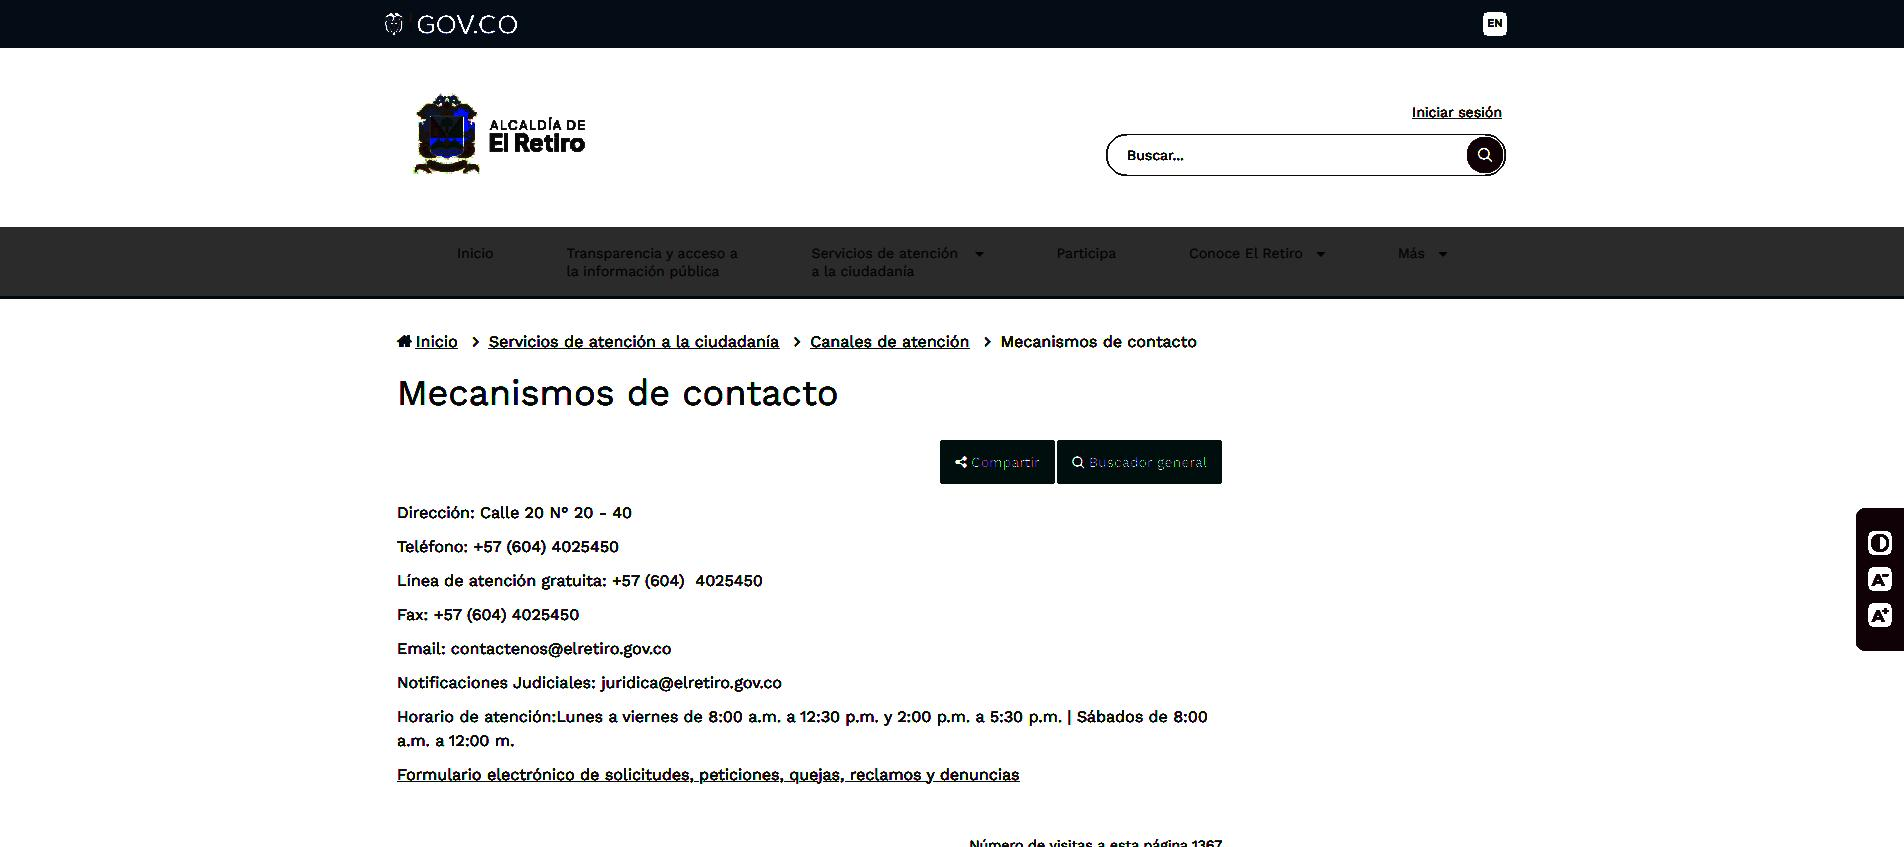barra accesibilidad: (1853, 505, 1904, 655)
barra govco: (381, 0, 1511, 53)
btn atencion ciudadano: (486, 329, 784, 356), (807, 241, 987, 281)
btn buscador: (1103, 130, 1510, 179), (1069, 452, 1089, 474)
btn idiomas: (1481, 9, 1508, 38)
btn inicio: (453, 244, 496, 265)
btn inicio sesion: (1410, 105, 1504, 122)
btn participa: (1054, 243, 1120, 264)
btn transpariencia: (561, 241, 741, 284)
logogovco: (382, 8, 523, 42)
menu principal: (447, 221, 1460, 289)
